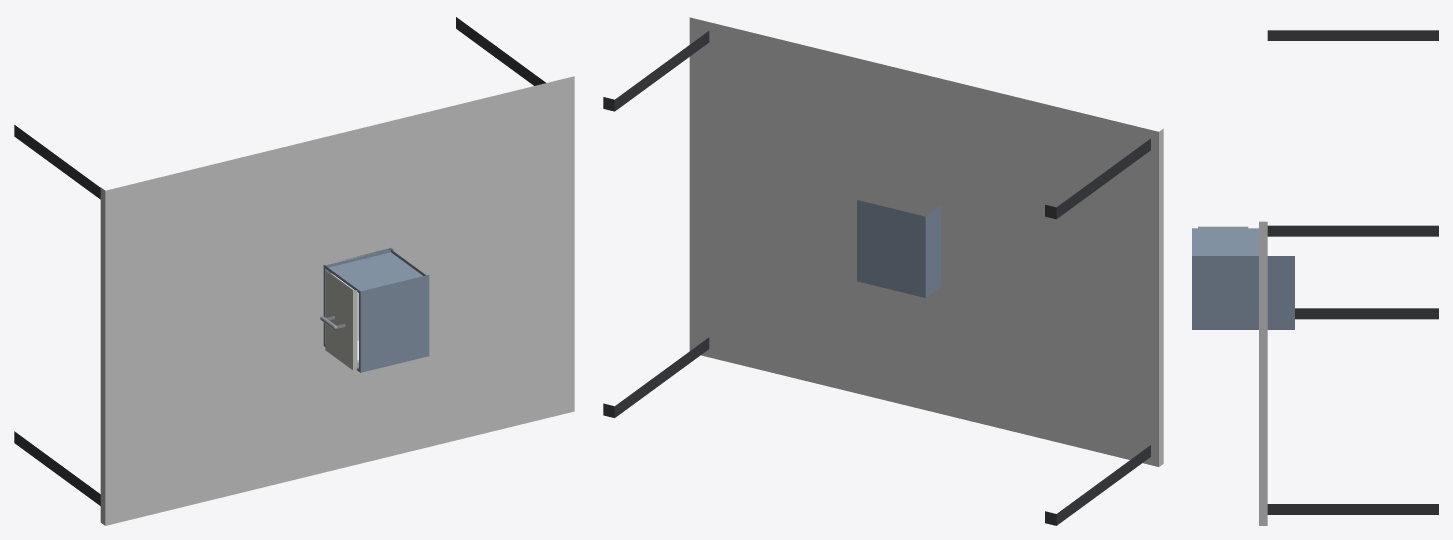
The picture shows the model from 3 angles, left to right: view 1: azimuth 30°, elevation 25°; view 2: azimuth 150°, elevation 25°; view 3: azimuth 270°, elevation 25°; orthographic projection. The views are drawn at different scales.
Visible parts, largest first — view 1: s0, s1, s2; view 2: s0, s1; view 3: s0, s1.
Part boxes in pixels (bbox=[...]): s0: bbox=[14, 17, 574, 525]; s1: bbox=[323, 247, 429, 372]; s2: bbox=[320, 271, 358, 370]; s0: bbox=[603, 17, 1163, 525]; s1: bbox=[857, 200, 940, 297]; s0: bbox=[1259, 30, 1438, 525]; s1: bbox=[1192, 228, 1294, 329].
Size of the model in its own units: 2.05 by 1.4 by 1.03.
